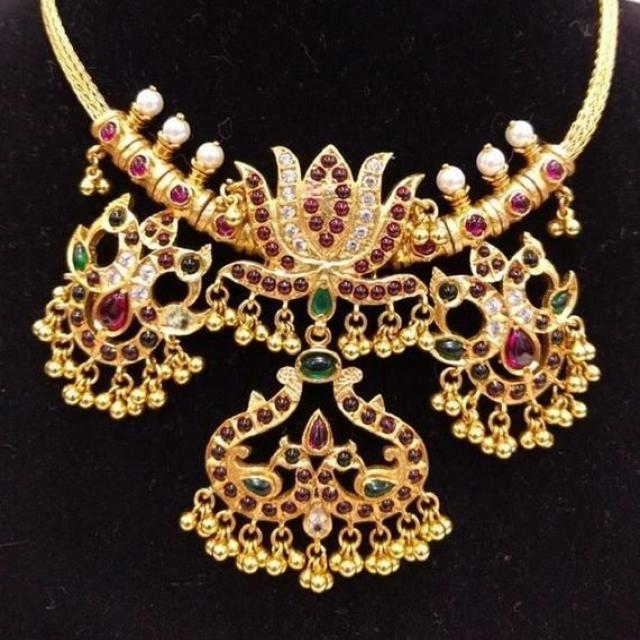missing gem: (165, 310, 190, 327), (307, 183, 319, 194)
